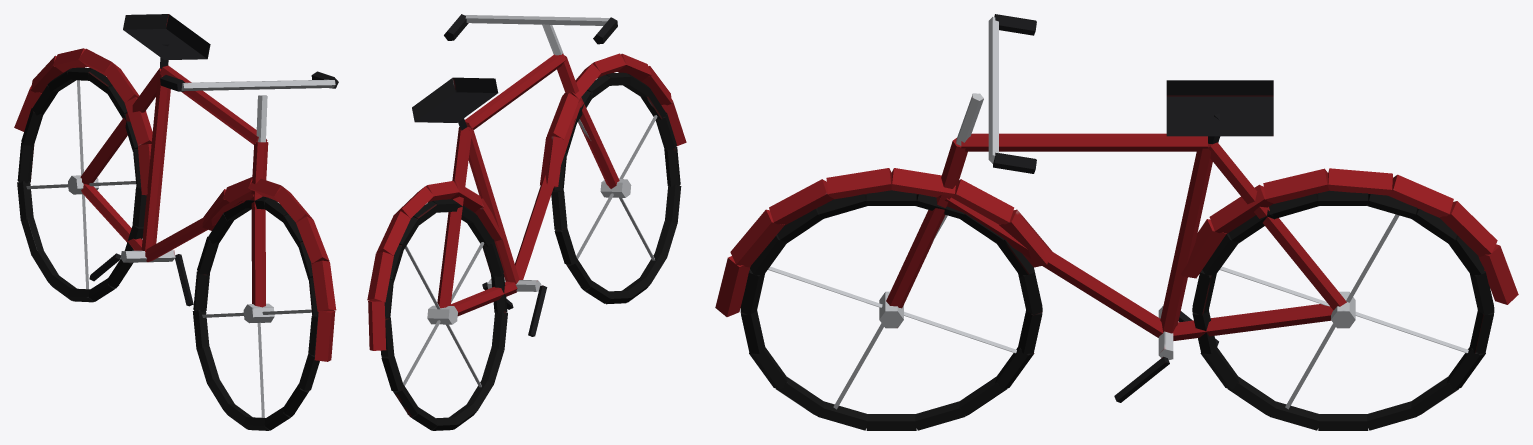
Rendered from kolo_048fbdb5.glb.
The picture shows the model from 3 angles, left to right: view 1: azimuth 30°, elevation 25°; view 2: azimuth 150°, elevation 25°; view 3: azimuth 270°, elevation 25°; orthographic projection. The views are drawn at different scales.
Visible parts, largest first — view 1: dum; view 2: dum; view 3: dum.
Part boxes in pixels (<box>): dum: <box>14,14,338,430</box>; dum: <box>367,14,686,430</box>; dum: <box>715,14,1518,430</box>.
Size of the model in its own units: 0.5906 by 1.09 by 1.95.
Materials: 1 (1 with a texture image).
